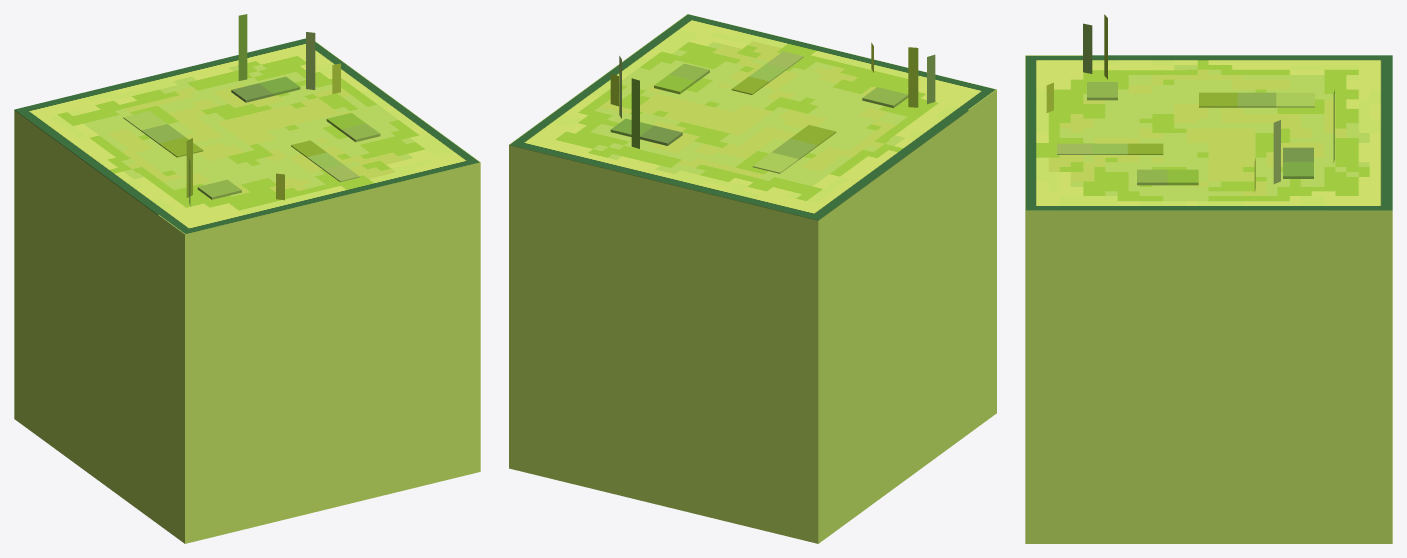
The model's file is grasstile2.fbx.
3 views of the same model, side by side, from view 1: azimuth 30°, elevation 25°; view 2: azimuth 150°, elevation 25°; view 3: azimuth 270°, elevation 25° (orthographic). The views are drawn at different scales.
Visible parts, largest first — view 1: grasstile_2; view 2: grasstile_2; view 3: grasstile_2.
Part boxes in pixels (left/top/right/bottom): grasstile_2: left=14, top=14, right=480, bottom=543; grasstile_2: left=509, top=14, right=996, bottom=543; grasstile_2: left=1025, top=14, right=1392, bottom=543.
Bounding box in the file's own units: 5 × 6.06 × 5.
2 materials, 2 textured.
